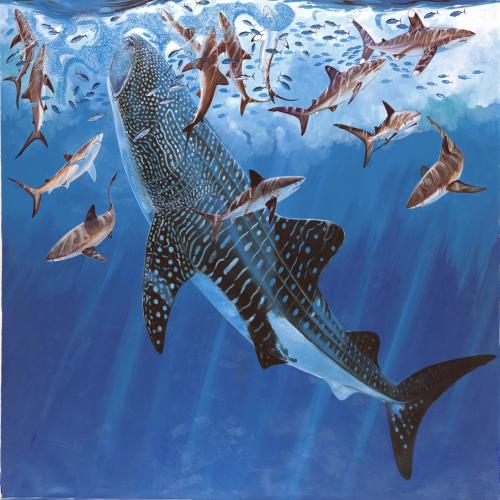shark-endangered: (105, 36, 498, 483)
